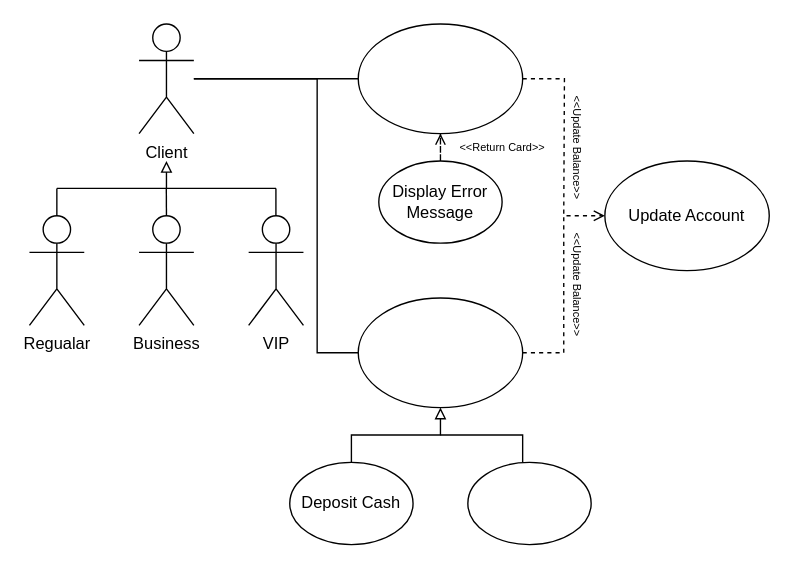
This 793x569 diagram has some shape labels left out. The centre of each missing label's shape, as x and y in pixels:
Deposit Check: the point at 528,503
Deposit Money: the point at 440,352
Withdraw Money: the point at 440,78
